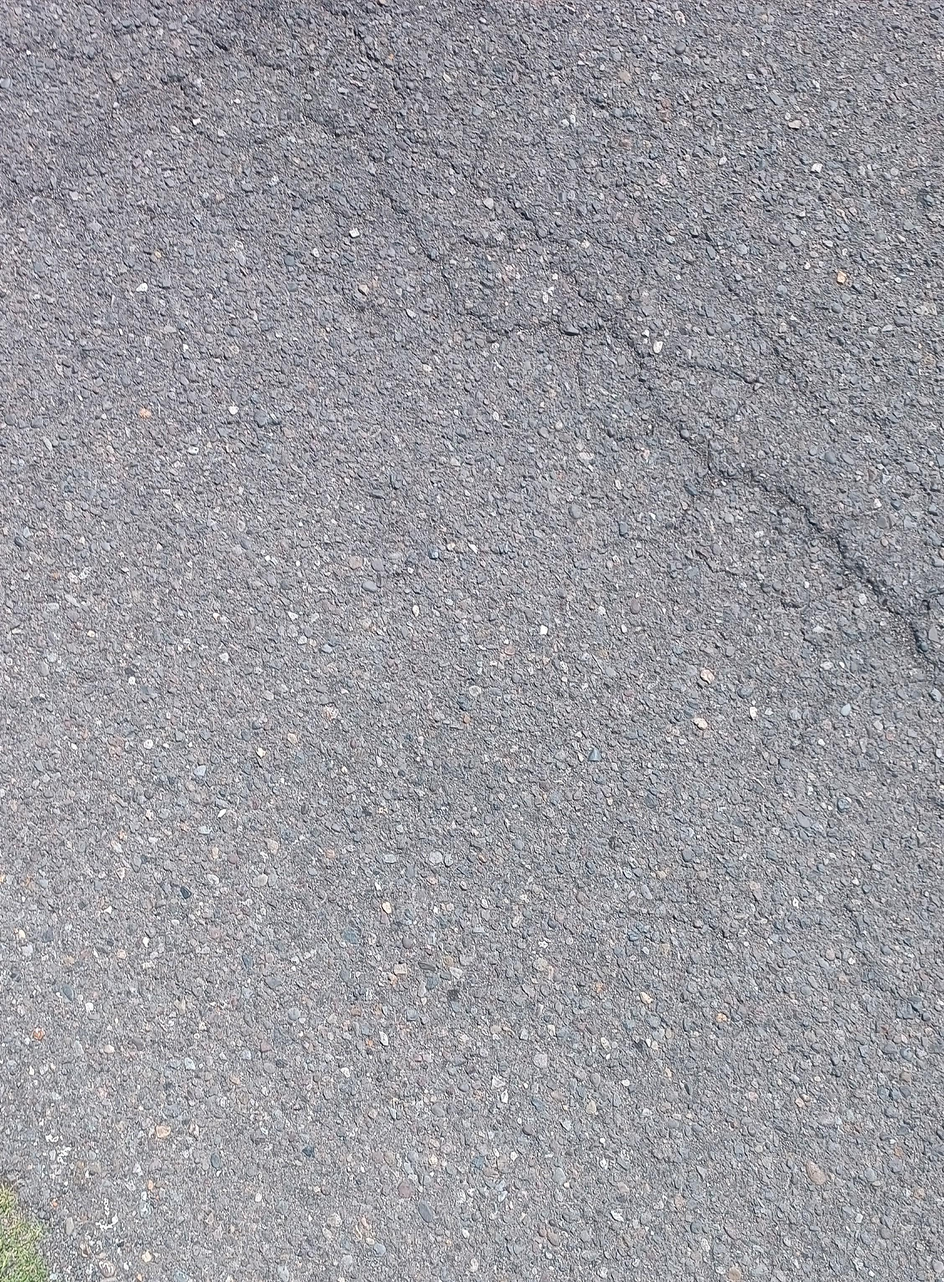PIEL DE COCODRILO: (26, 0, 944, 757)
